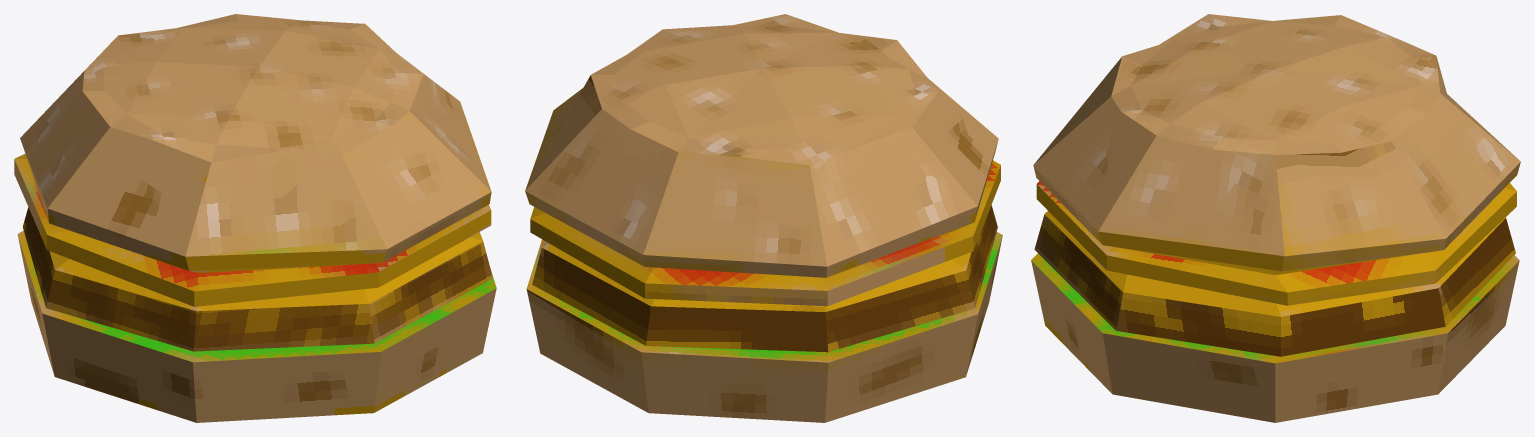
Rendered from hamburger.glb.
3 views of the same model, side by side, from view 1: azimuth 30°, elevation 25°; view 2: azimuth 150°, elevation 25°; view 3: azimuth 270°, elevation 25° (orthographic).
Parts seen in each view (by area): view 1: Circle.002; view 2: Circle.002; view 3: Circle.002.
Boxes of the visible parts, left/top/right/bottom form: Circle.002: left=14, top=14, right=496, bottom=422; Circle.002: left=525, top=14, right=1002, bottom=422; Circle.002: left=1031, top=14, right=1520, bottom=422.
Size of the model in its own units: 2 by 1.16 by 2.
Materials: 1 (1 with a texture image).
